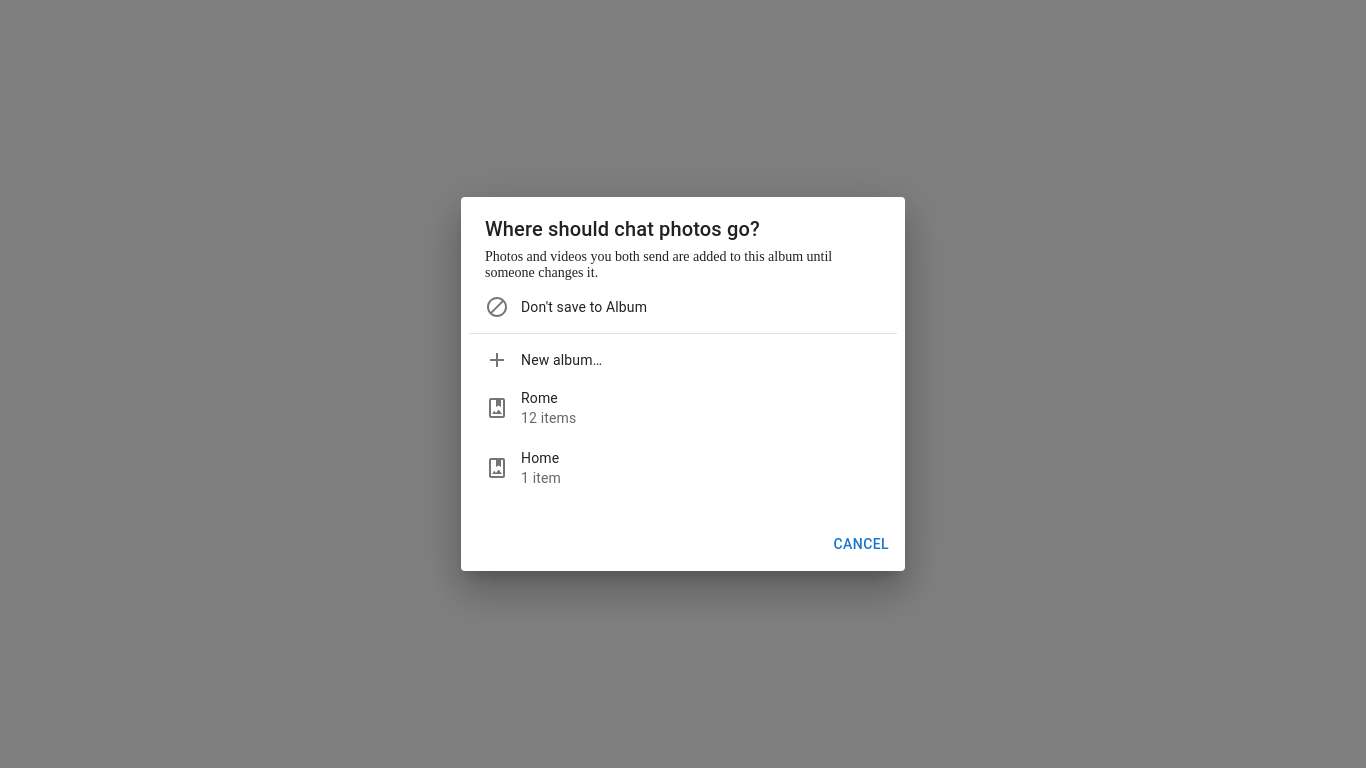
AlbumPicker › stays open and says so when saving fails
The image size is (1366, 768).
Click the text "Rome" at (539, 398), box [521,390,558,406]
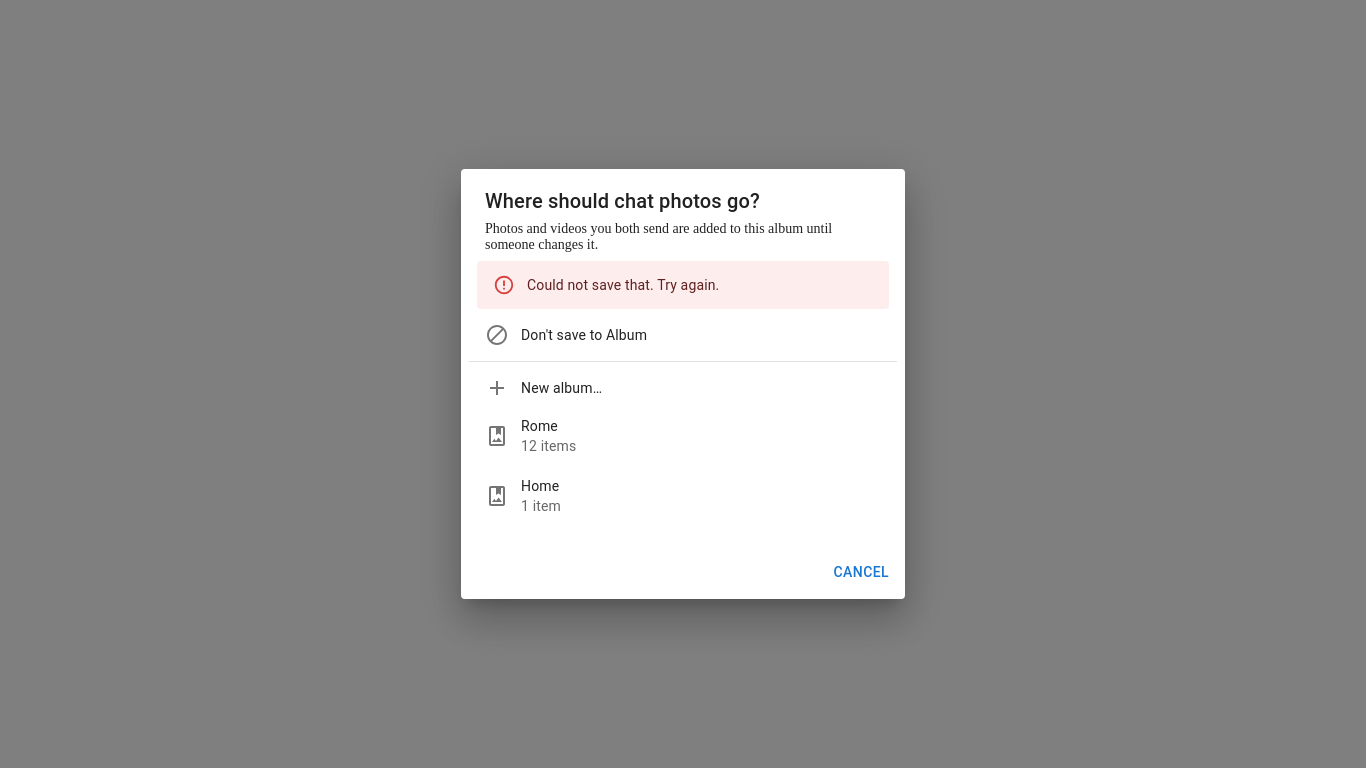
Expected: the text "Could not save that. Try again." is shown, [527,277,719,293]
